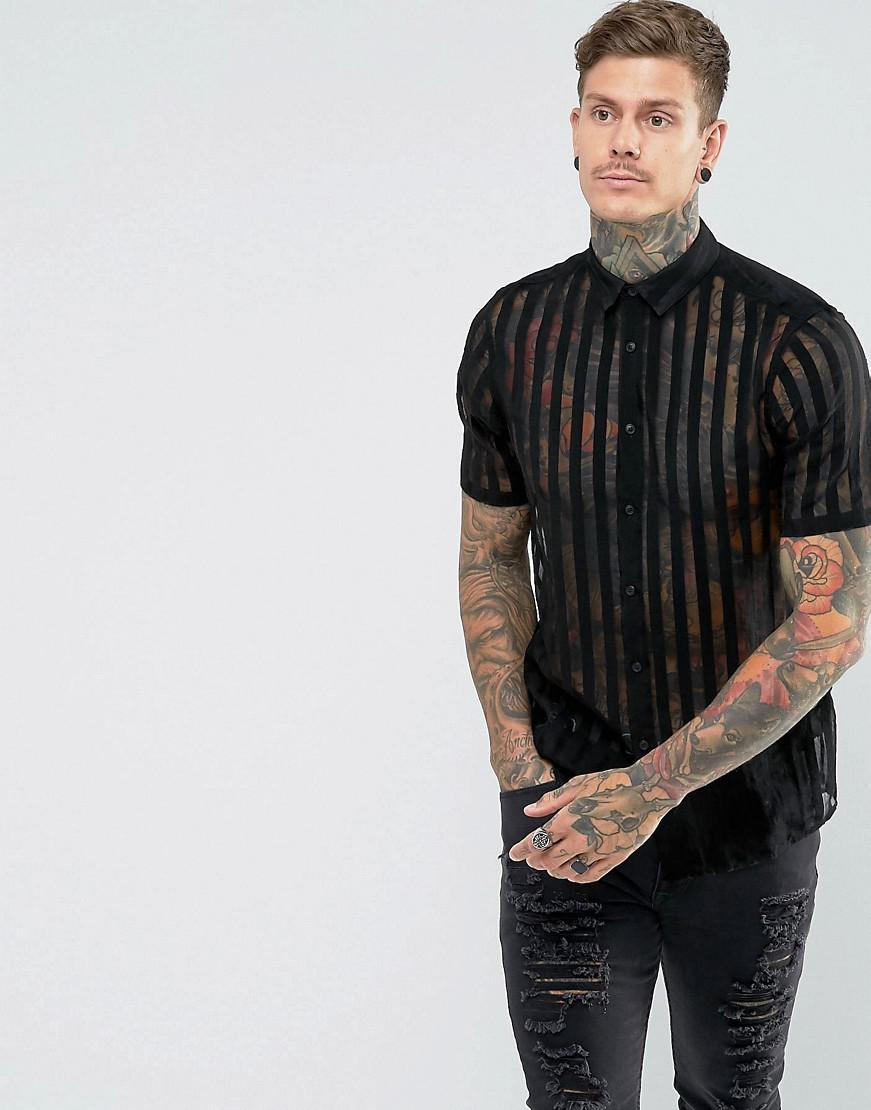teeshirt: (459, 217, 868, 878)
